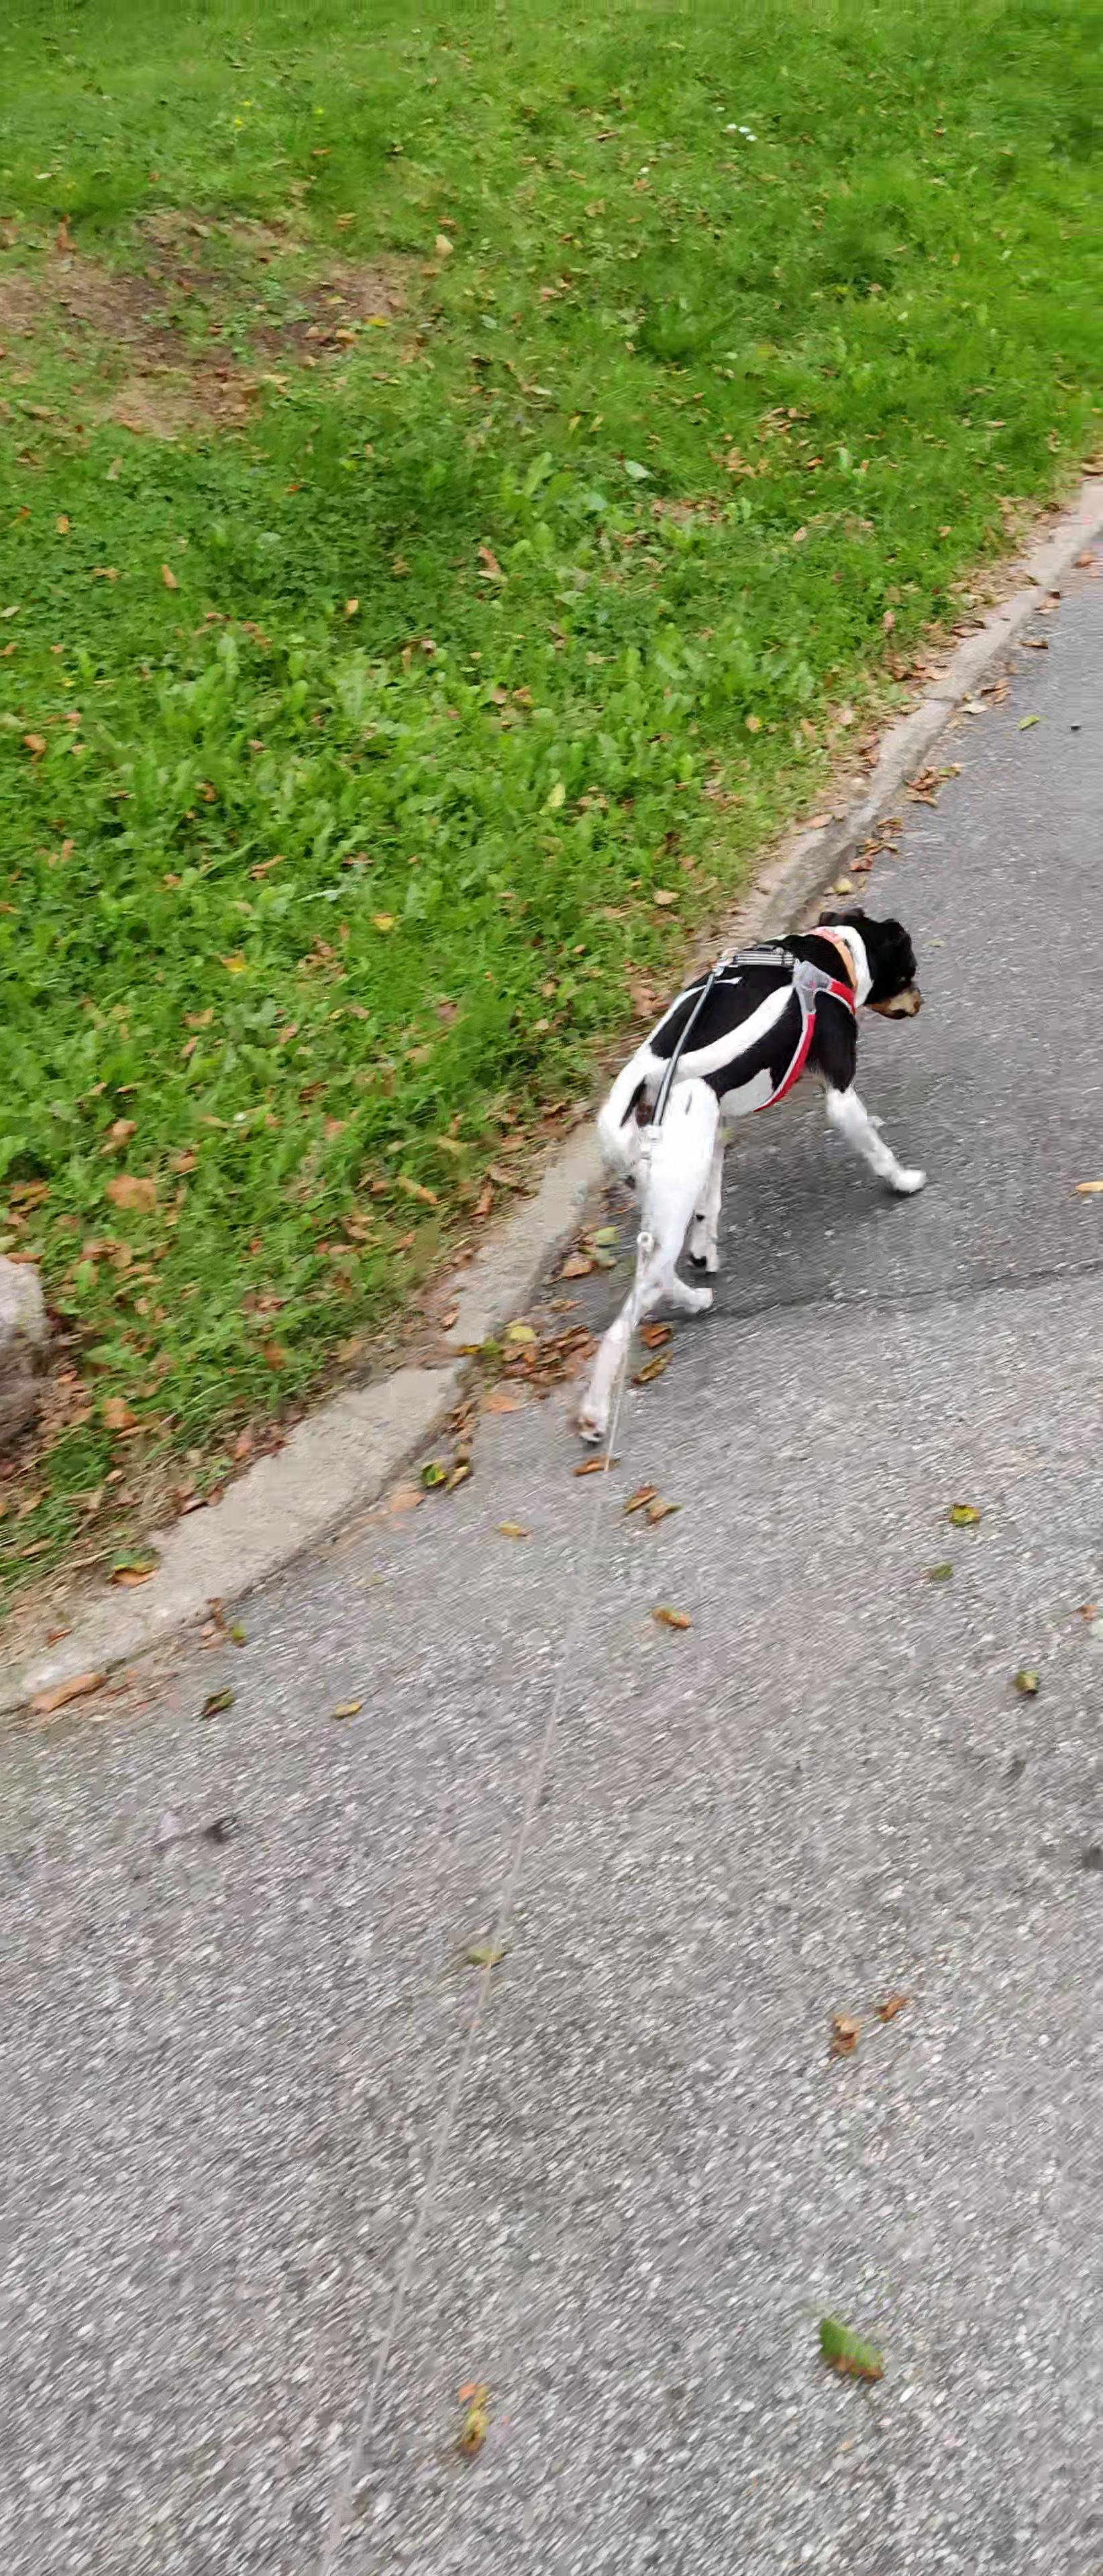Dog: (564, 897, 937, 1449)
